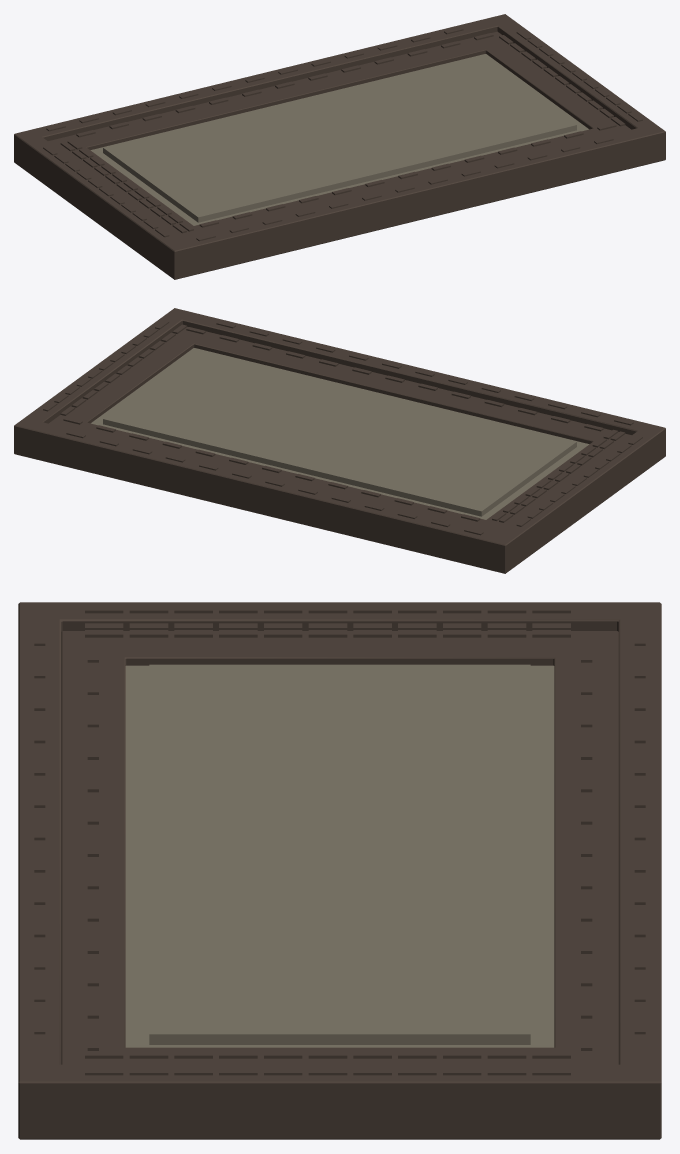
The model's file is cover_recessed_footway.glb.
The picture shows the model from 3 angles, top to bottom: view 1: azimuth 30°, elevation 25°; view 2: azimuth 150°, elevation 25°; view 3: azimuth 270°, elevation 25°; orthographic projection. The views are drawn at different scales.
Parts seen in each view (by area): view 1: infill, frame_flange, frame_ledge, lugs; view 2: infill, frame_flange, frame_ledge, lugs; view 3: infill, frame_flange, frame_ledge, lugs.
Part boxes in pixels (<box>): infill: <box>90,54,588,225</box>; frame_flange: <box>14,14,665,279</box>; frame_ledge: <box>48,31,630,239</box>; lugs: <box>43,27,642,241</box>; infill: <box>91,348,589,519</box>; frame_flange: <box>14,308,665,573</box>; frame_ledge: <box>49,326,631,533</box>; lugs: <box>43,320,642,535</box>; infill: <box>125,664,554,1047</box>; frame_flange: <box>18,602,661,1139</box>; frame_ledge: <box>61,631,618,1064</box>; lugs: <box>34,606,645,1075</box>.
Size of the model in its own units: 1.06 by 0.0625 by 0.6.
